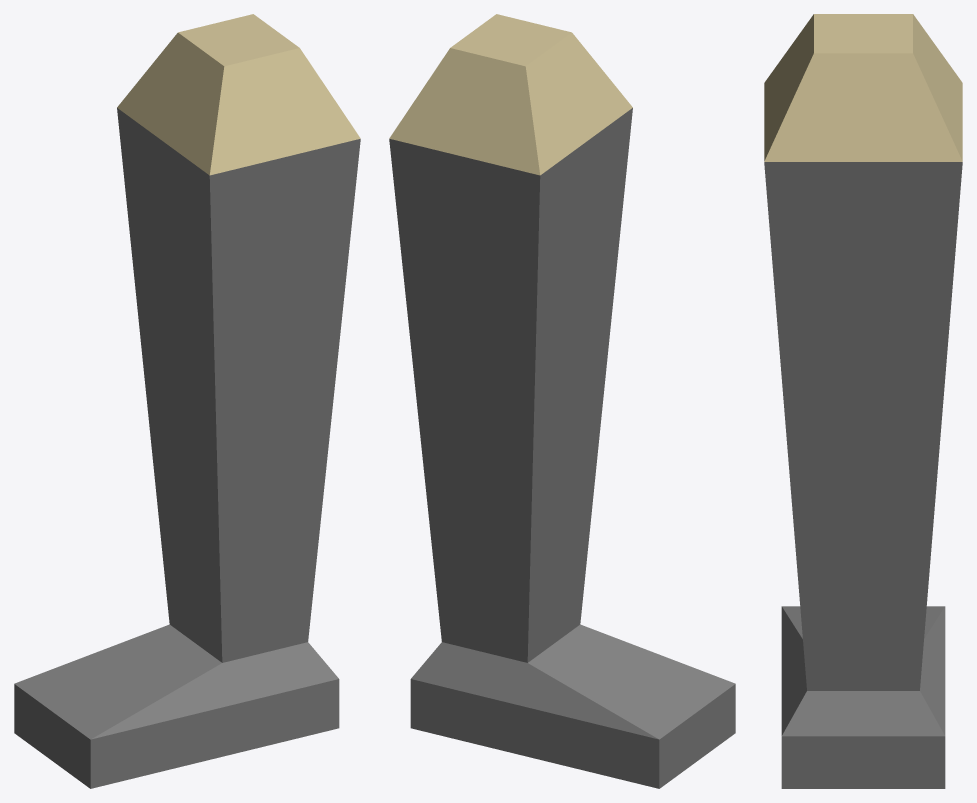
The model's file is Bandit5LowerLeg.fbx.
3 renders of one model, left to right at view 1: azimuth 30°, elevation 25°; view 2: azimuth 150°, elevation 25°; view 3: azimuth 270°, elevation 25°, orthographic. The views are drawn at different scales.
Visible parts, largest first — view 1: Bandit5LowerLeg; view 2: Bandit5LowerLeg; view 3: Bandit5LowerLeg.
Boxes of the visible parts, <box> form: Bandit5LowerLeg: <box>14,14,360,788</box>; Bandit5LowerLeg: <box>389,14,735,788</box>; Bandit5LowerLeg: <box>764,14,962,788</box>.
Bounding box in the file's own units: 0.272 × 0.6698 × 0.1668.
